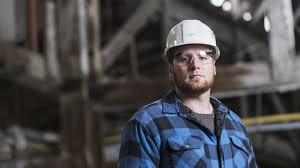Person_wearing_helmet: (157, 13, 221, 69)
